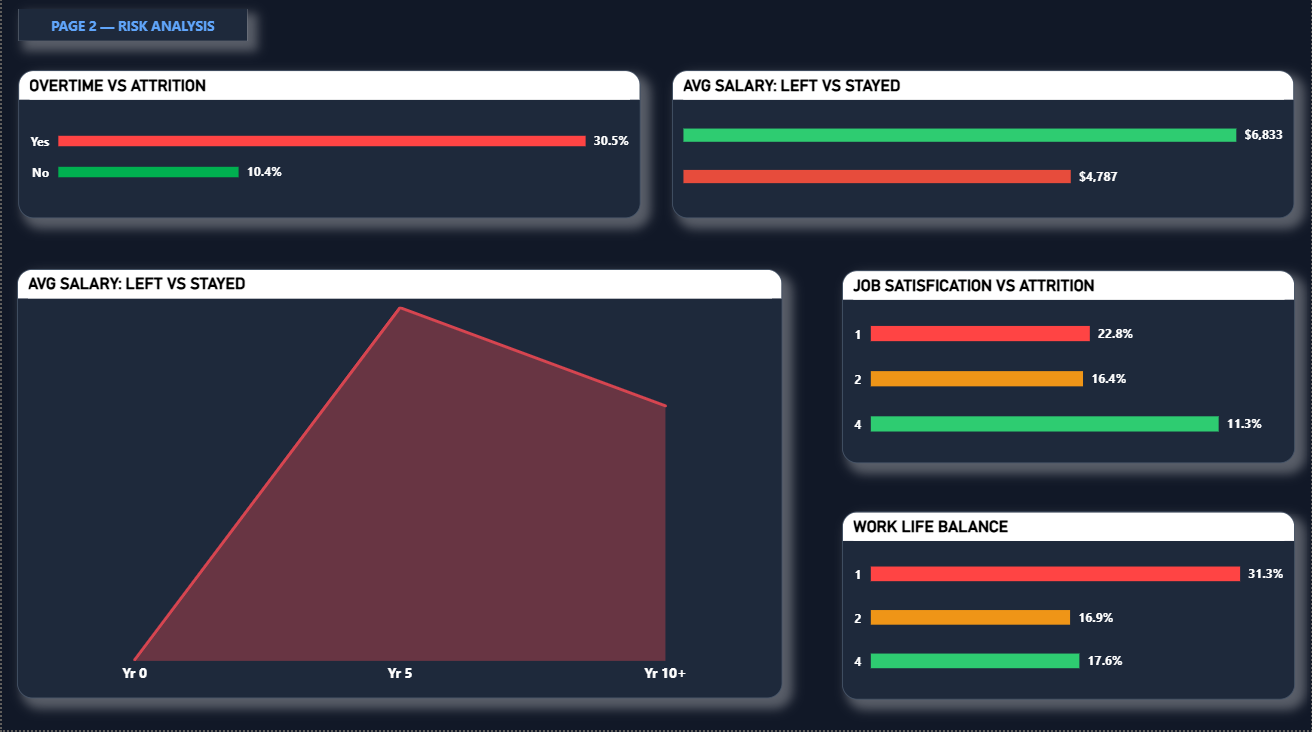

The page's visual inventory and layout, read from the dashboard file:
{"tool":"powerbi","page":{"name":"RISK ANALYSIS","canvas":[1280,720],"ordinal":1},"visuals":[{"type":"shape","title":"PAGE 1 — EXECUTIVE OVERVIEW","box":[15.6,14.3,224.2,31.3],"z":0},{"type":"clusteredBarChart","title":"OVERTIME VS ATTRITION","fields":{"Category":["powerbi_main_data.OverTime"],"Y":["powerbi_cost_analysis.OT_Attrition_Pct"]},"box":[15.6,74.3,608.8,144.7],"z":1000},{"type":"clusteredBarChart","title":"JOB SATISFICATION  VS ATTRITION","fields":{"Y":["CountNonNull(powerbi_main_data.EmployeeNumber)"],"Category":["powerbi_main_data.JobSatisfaction"]},"box":[821.4,269.9,443.3,189],"z":2000},{"type":"clusteredBarChart","title":"WORK LIFE BALANCE","fields":{"Category":["powerbi_main_data.WorkLifeBalance"],"Y":["powerbi_main_data.WLB_Attrition_Pct"]},"box":[821.4,505.8,443.3,183.8],"z":3000},{"type":"clusteredBarChart","title":"AVG SALARY: LEFT VS STAYED","fields":{"Category":["powerbi_main_data.Attrition"],"Y":["powerbi_main_data.Avg Salary Rounded"]},"box":[655.8,74.3,608.8,144.7],"z":5000},{"type":"lineChart","title":"AVG SALARY: LEFT VS STAYED","fields":{"Category":["powerbi_main_data.YearsGroup"],"Y":["CountNonNull(powerbi_main_data.EmployeeNumber)"]},"box":[15.2,269.5,749,420.2],"z":8001}]}

Visuals, with their boxes in screenshot pixels (x1, y1, x2, y2), scaled from the page's 1280x720 canvas onto the 1312x732 screenshot:
"PAGE 1 — EXECUTIVE OVERVIEW" shape: locate(16, 15, 246, 46)
"OVERTIME VS ATTRITION" clusteredBarChart: locate(16, 76, 640, 223)
"JOB SATISFICATION  VS ATTRITION" clusteredBarChart: locate(842, 274, 1296, 467)
"WORK LIFE BALANCE" clusteredBarChart: locate(842, 514, 1296, 701)
"AVG SALARY: LEFT VS STAYED" clusteredBarChart: locate(672, 76, 1296, 223)
"AVG SALARY: LEFT VS STAYED" lineChart: locate(16, 274, 783, 701)
